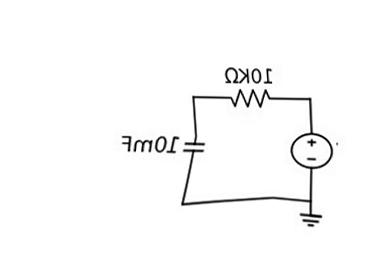Battery: (282, 128, 340, 176)
